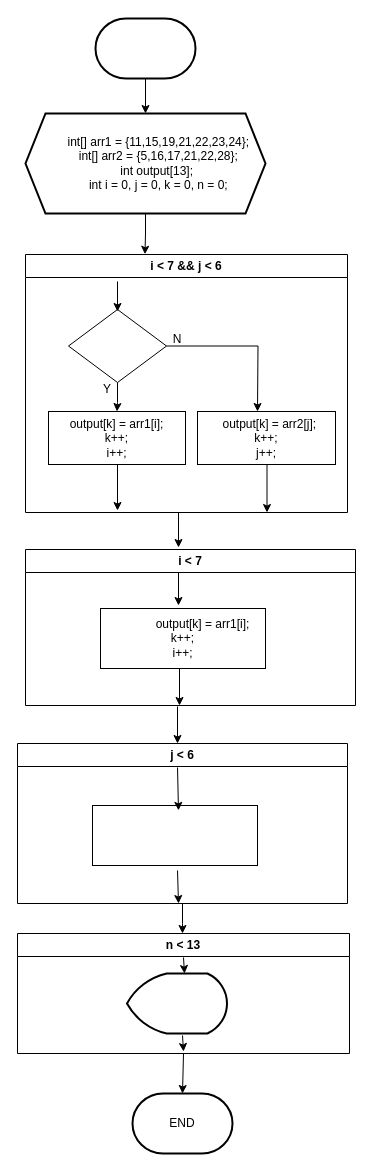
Some shapes in this 373 by 1171 pixel diagram are drawn without their labels. Here are the shapes that lost their labels. From the top down, the centre of each, then its label:
the point at 145,48: START
the point at 117,345: arr1[i] < arr2[j]
the point at 175,835: output[k++] = arr2[j++];
the point at 177,1003: output[n++] + " "
